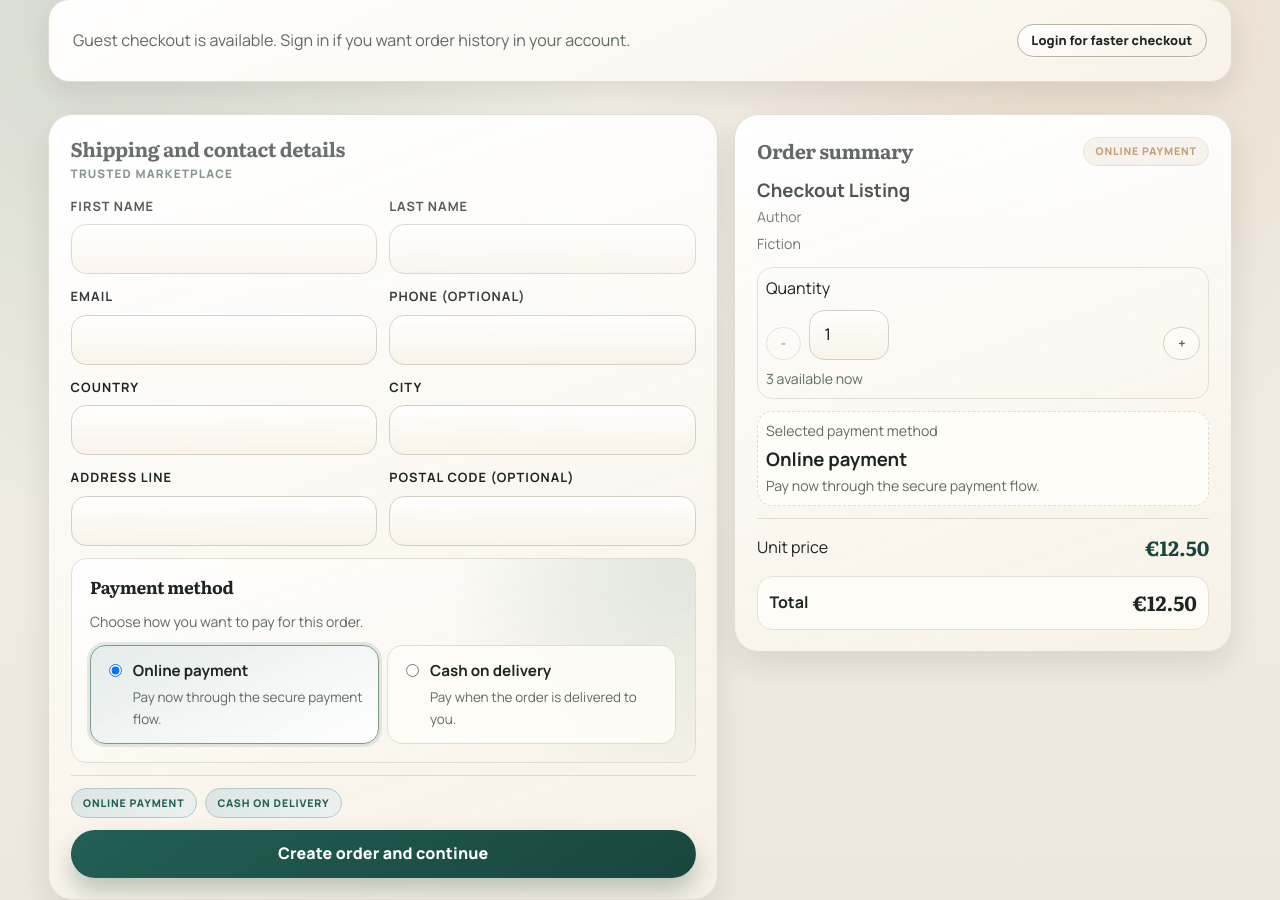
Test: CheckoutPage › shows validation errors before submitting
(page scrolled)
Expected: the heading "Order summary" is shown, [757,139,913,164]
Expected: the heading "Payment method" is shown, [90,574,233,599]
Click the button "Create order and continue" at (383, 854), box [71,830,696,878]
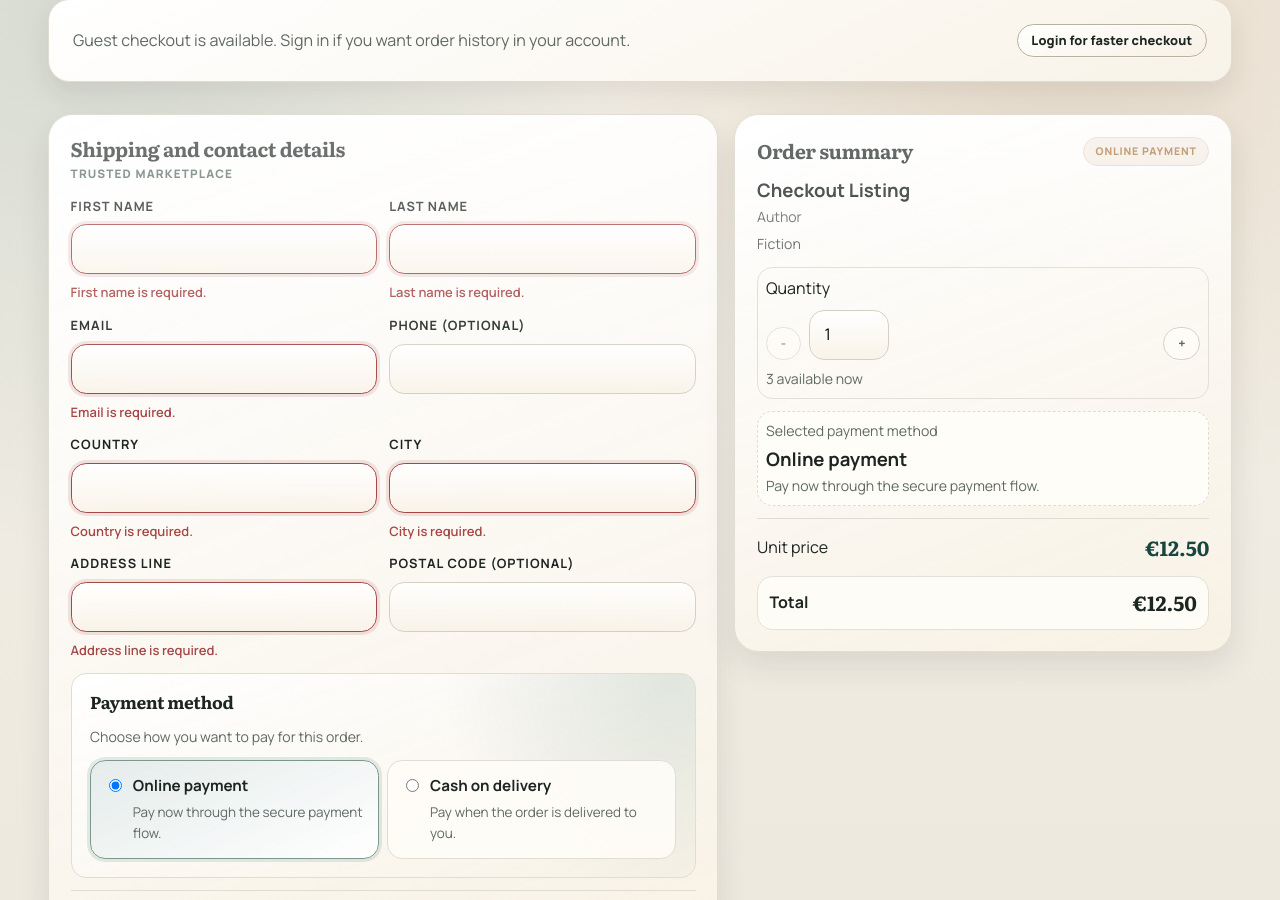
Expected: the text "First name is required." is shown, [71,283,206,301]
Expected: the text "Last name is required." is shown, [389,283,524,301]
Expected: the text "Email is required." is shown, [71,402,175,420]
